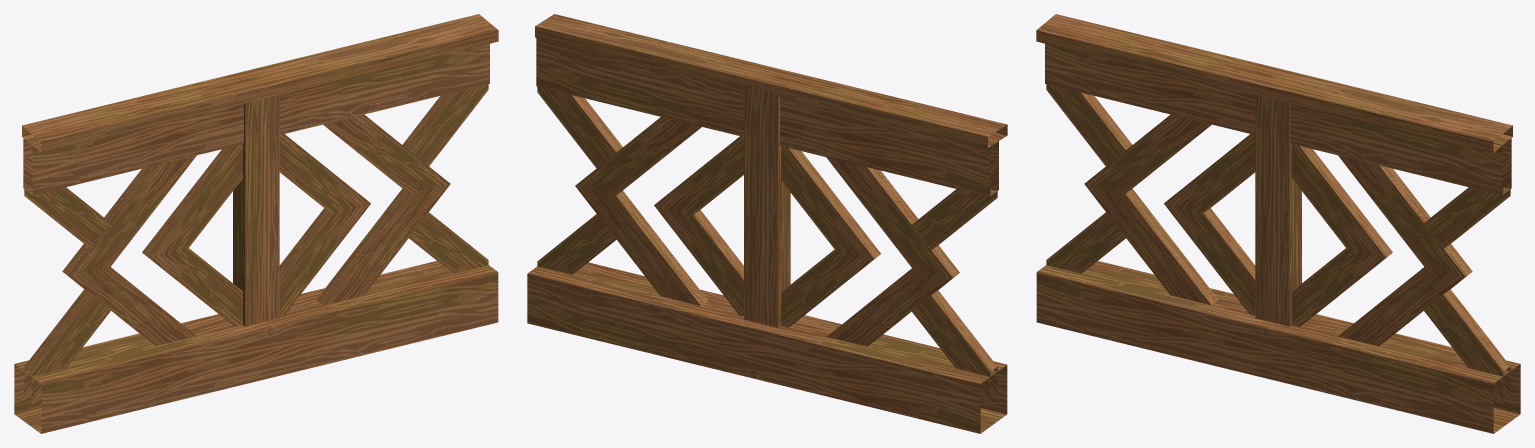
Rendered from Balcony_Cross_Straight.glb.
The picture shows the model from 3 angles, left to right: view 1: azimuth 30°, elevation 25°; view 2: azimuth 150°, elevation 25°; view 3: azimuth 330°, elevation 25°; orthographic projection.
Visible parts, largest first — view 1: Balcony_Cross_Straight; view 2: Balcony_Cross_Straight; view 3: Balcony_Cross_Straight.
Boxes of the visible parts, x1=… form: Balcony_Cross_Straight: x1=14, y1=14, x2=498, y2=433; Balcony_Cross_Straight: x1=527, y1=14, x2=1007, y2=433; Balcony_Cross_Straight: x1=1036, y1=14, x2=1520, y2=433.
Size of the model in its own units: 2 by 1.23 by 0.2063.
1 material, 1 textured.
